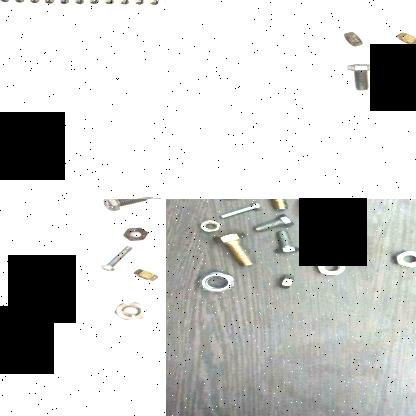Bolts: (210, 231, 256, 267), (94, 244, 135, 273), (298, 199, 359, 215), (344, 60, 374, 92), (246, 215, 290, 233), (274, 230, 302, 258), (217, 202, 261, 219), (102, 199, 149, 213), (302, 214, 352, 226), (256, 199, 290, 212)
NUTS: (107, 298, 149, 323), (198, 270, 238, 294), (311, 256, 349, 276), (386, 249, 416, 270), (126, 266, 164, 282), (328, 233, 366, 249), (337, 28, 367, 48), (117, 226, 151, 242), (376, 80, 404, 98), (278, 269, 298, 289), (389, 32, 416, 46), (195, 219, 221, 232)
